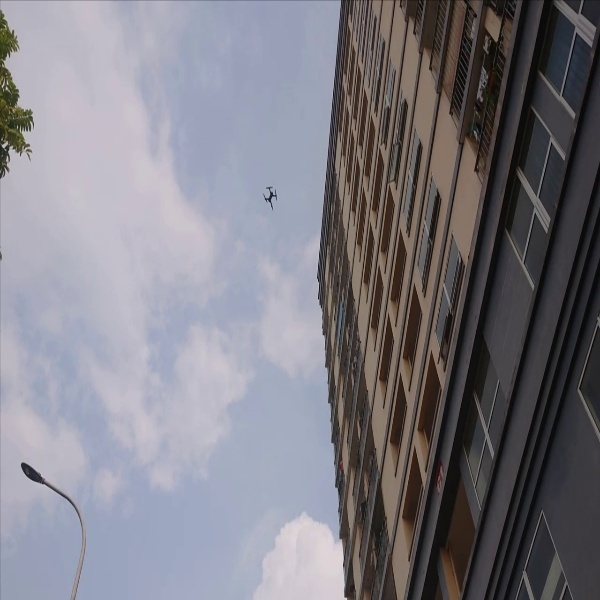drone: (256, 180, 285, 211)
